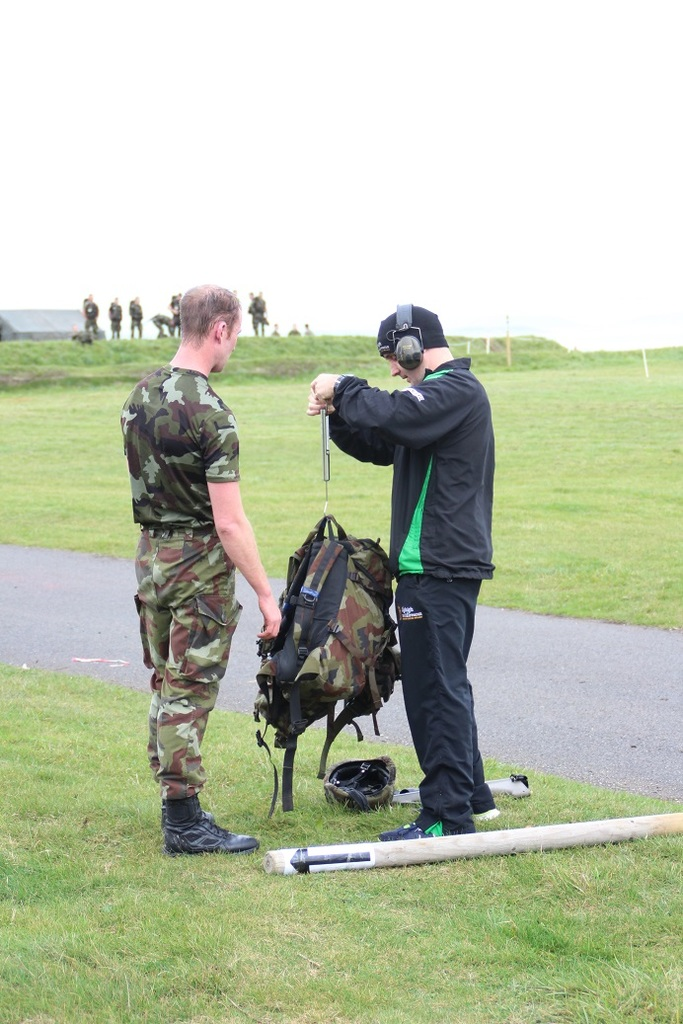Person: (304, 299, 499, 840), (115, 282, 284, 859), (247, 285, 269, 336), (147, 310, 179, 338), (81, 290, 98, 340), (109, 296, 124, 334), (130, 297, 144, 337), (170, 293, 180, 332)
